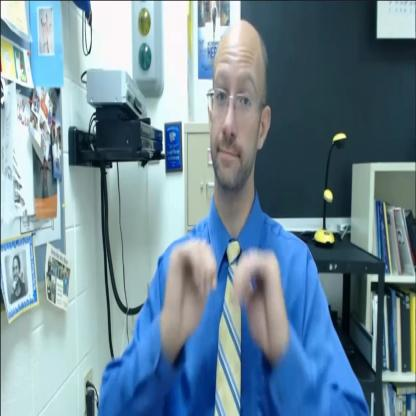HowAreYou: (101, 13, 372, 416)
